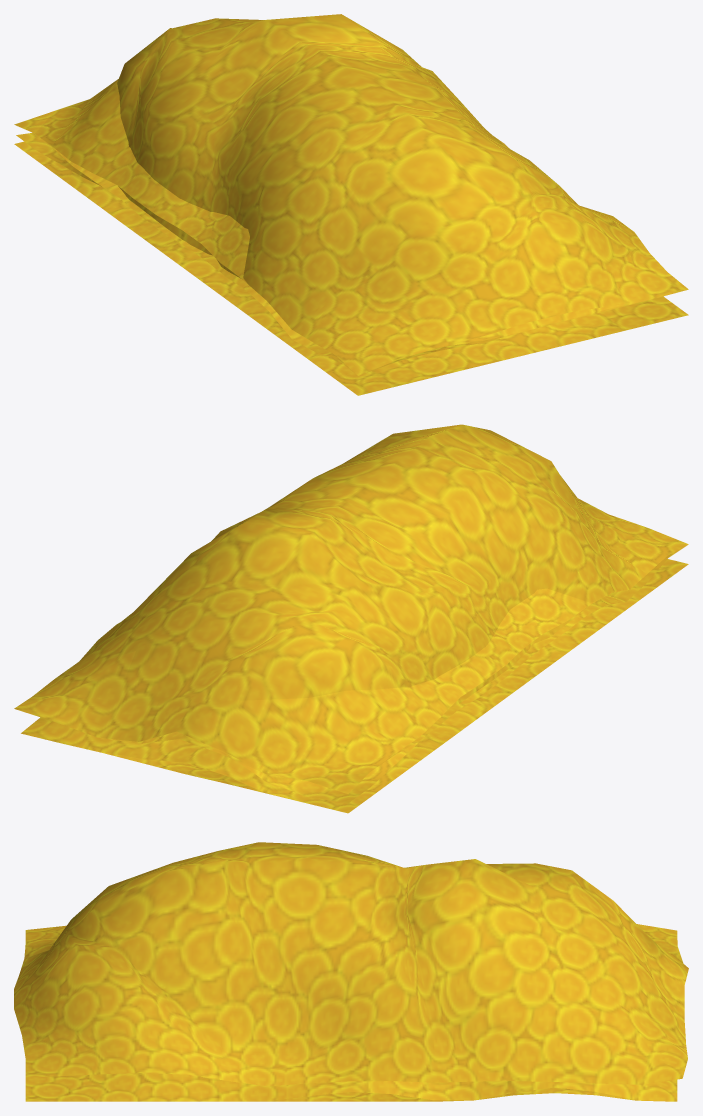
Rendered from Coins.FBX.
3 views of the same model, one above another, from view 1: azimuth 30°, elevation 25°; view 2: azimuth 150°, elevation 25°; view 3: azimuth 270°, elevation 25° (orthographic). The views are drawn at different scales.
Parts seen in each view (by area): view 1: m_Coins_04, m_Coins_03, m_Coins_01, m_Coins_02, m_Coins_00; view 2: m_Coins_04, m_Coins_03, m_Coins_01, m_Coins_02, m_Coins_00; view 3: m_Coins_04, m_Coins_03, m_Coins_01, m_Coins_00, m_Coins_02.
Boxes of the visible parts, x1,y1,x2,y2 form: m_Coins_04: [16, 14, 647, 375]; m_Coins_03: [35, 79, 688, 356]; m_Coins_01: [35, 153, 666, 394]; m_Coins_02: [14, 111, 662, 375]; m_Coins_00: [14, 141, 688, 395]; m_Coins_04: [95, 424, 688, 803]; m_Coins_03: [14, 588, 629, 780]; m_Coins_01: [21, 559, 688, 803]; m_Coins_02: [100, 546, 685, 793]; m_Coins_00: [45, 559, 688, 813]; m_Coins_04: [14, 842, 684, 1082]; m_Coins_03: [25, 924, 688, 1086]; m_Coins_01: [25, 1073, 677, 1101]; m_Coins_00: [25, 1083, 668, 1101]; m_Coins_02: [25, 924, 677, 1082].
Bounding box in the file's own units: 33.46 × 58.71 × 16.85.
